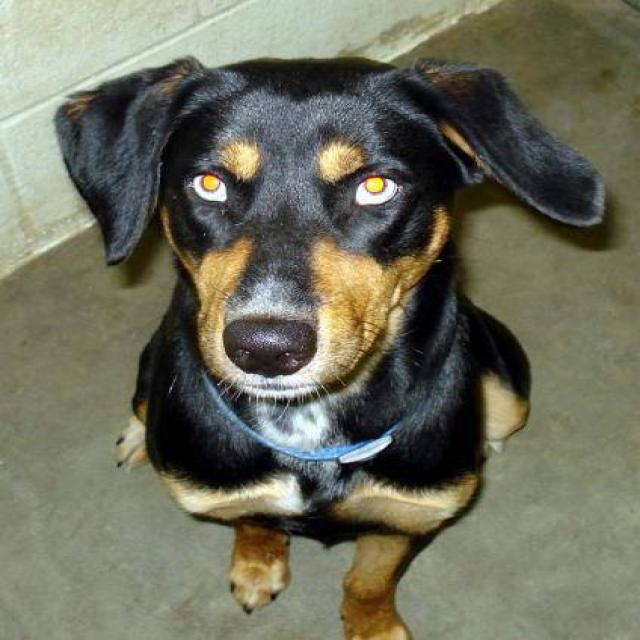dogs: (39, 35, 606, 640)
